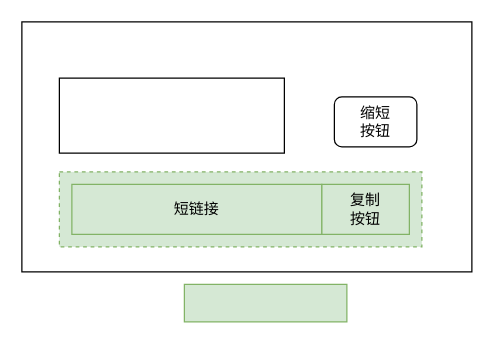
This 494x344 diagram has some shape labels left out. The centre of each missing label's shape, as x and y in pixels:
"成功缩短连接后显示" goes at point (265, 302).
"输入链接" goes at point (171, 115).
